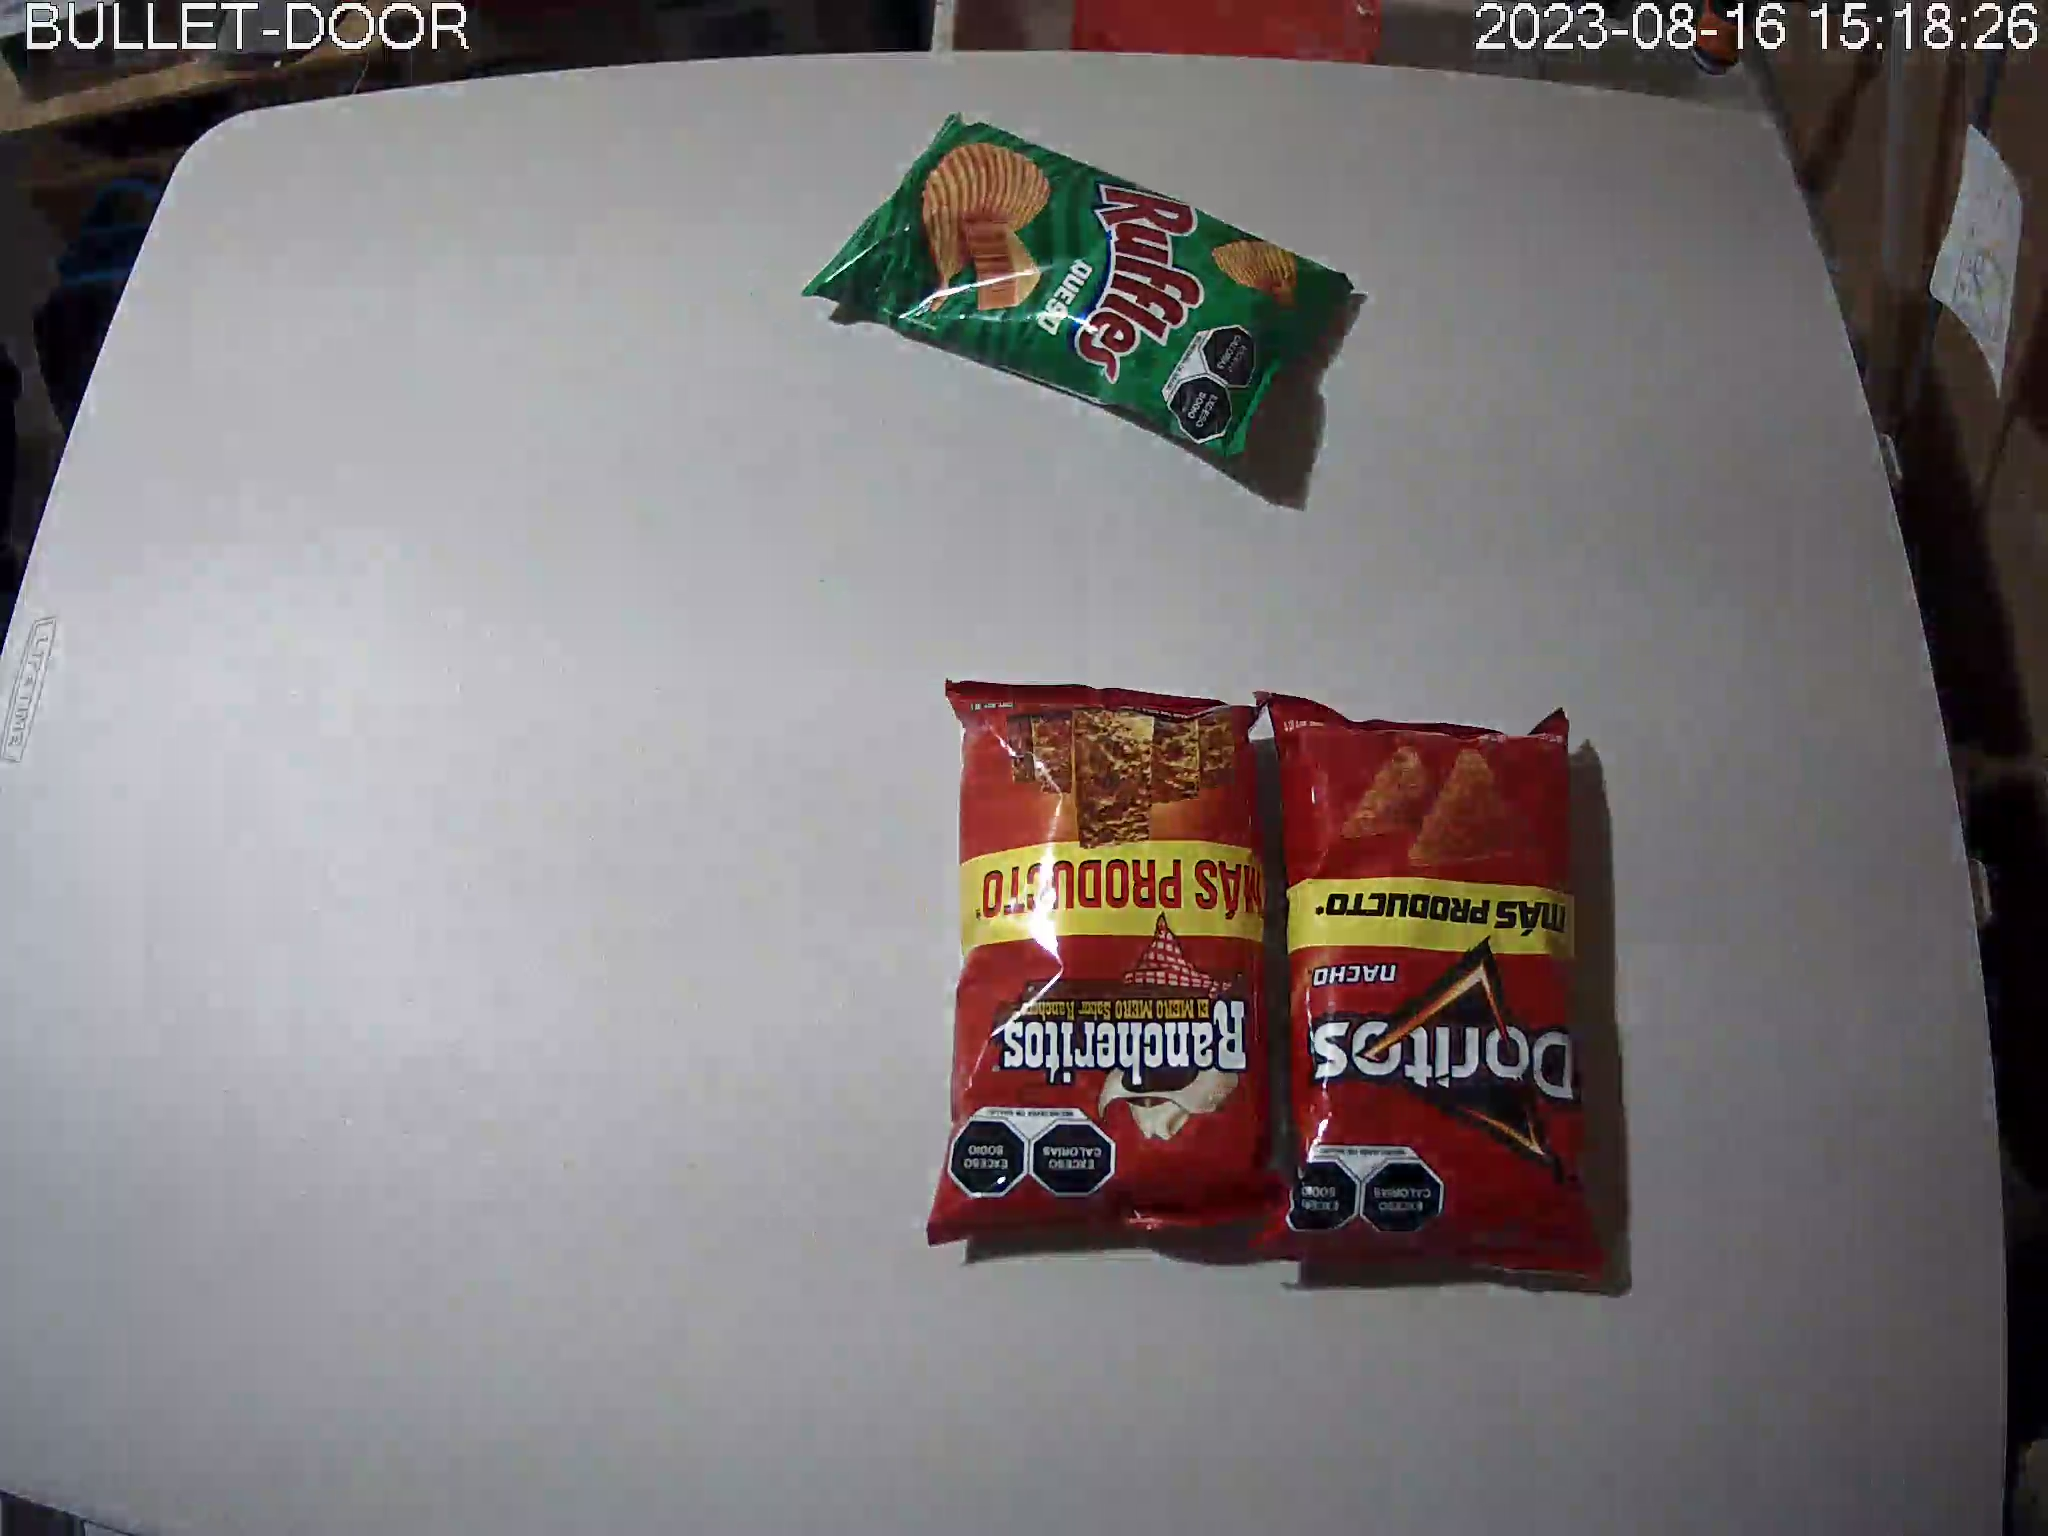DoritosN_61_F: (1247, 695, 1613, 1294)
Rancheritos_58_F: (926, 679, 1305, 1263)
RufflesQ_48_F: (801, 110, 1355, 481)
